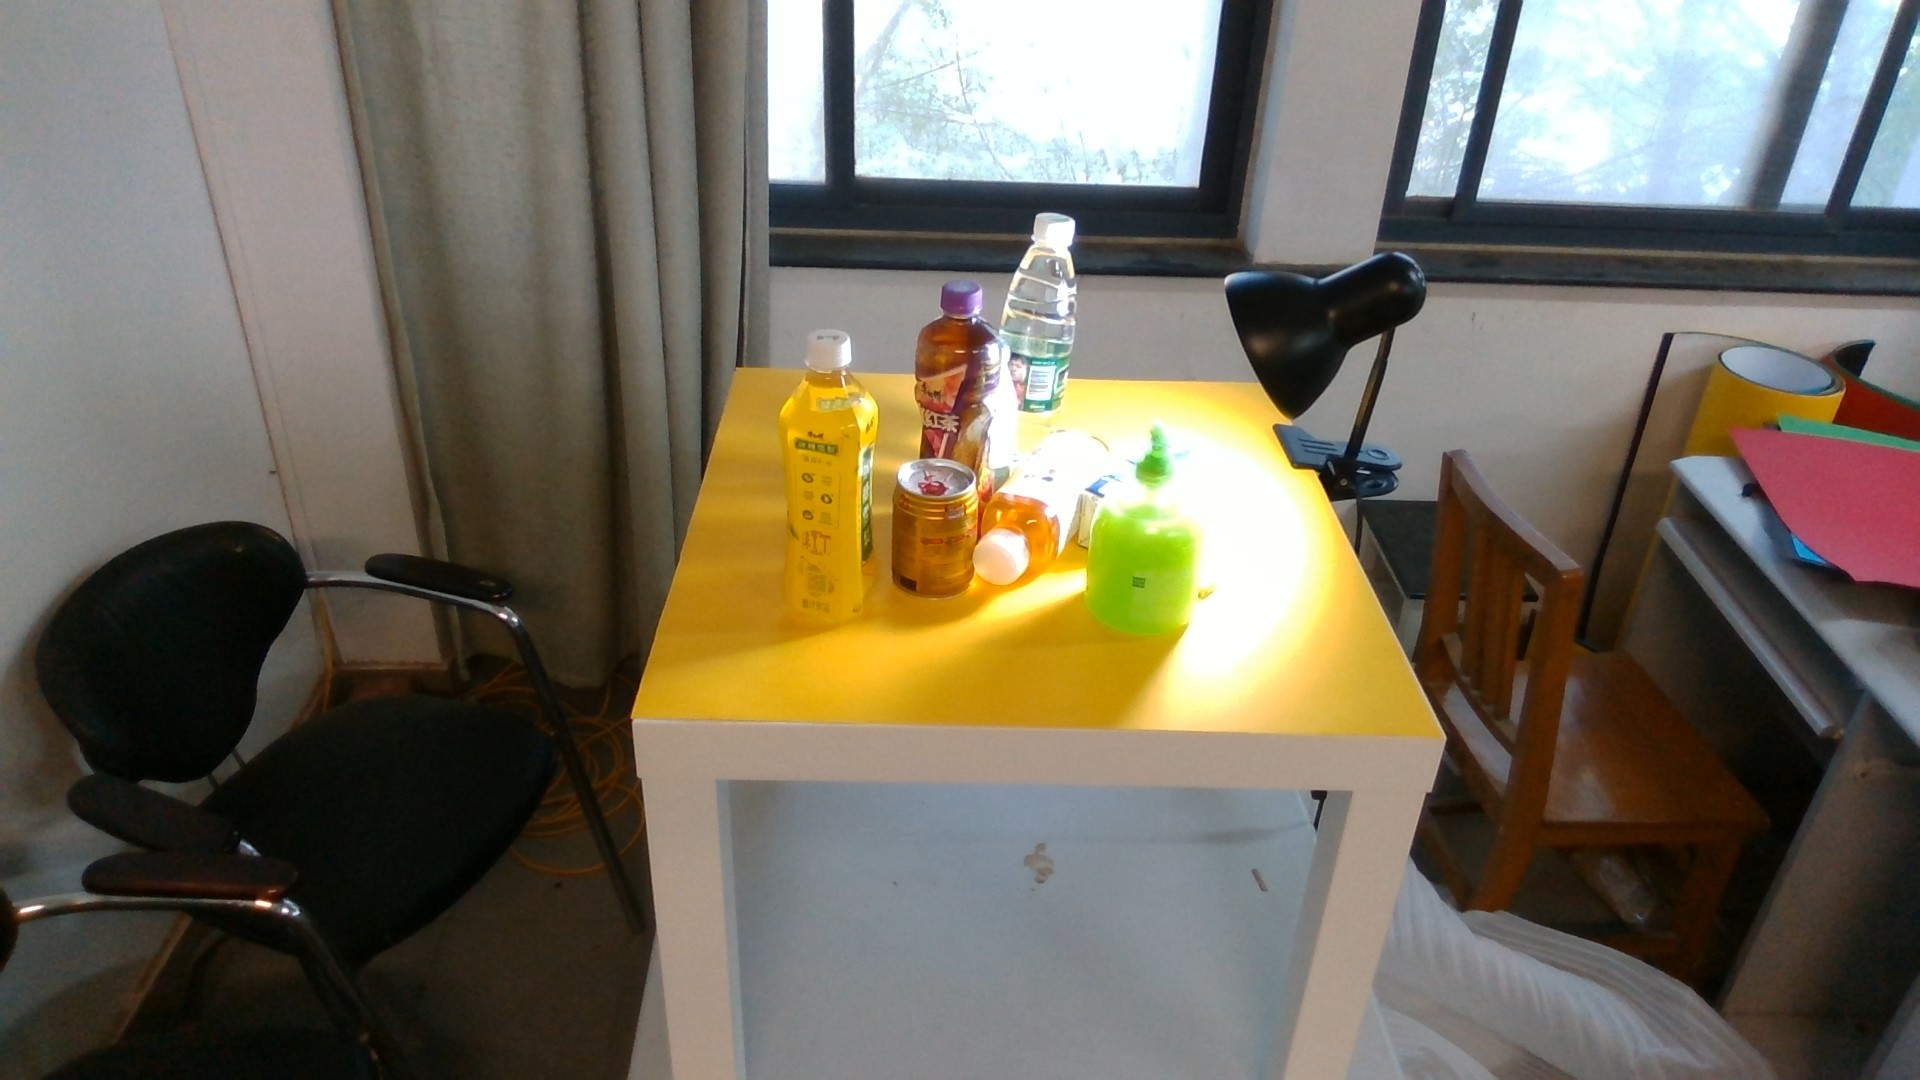BB002: (1200, 568, 1216, 599)
BB010: (1083, 471, 1120, 498)
ZA002: (1087, 489, 1201, 634)
ZC004: (894, 459, 978, 596)
ZC005: (996, 345, 1025, 464)
ZC009: (919, 277, 996, 460)
ZC011: (783, 328, 880, 628)
ZC012: (984, 463, 1069, 591)
ZC017: (1023, 207, 1083, 425)
